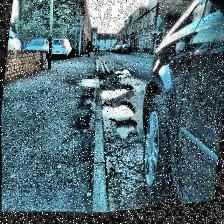pothole: (101, 100, 137, 127), (99, 83, 131, 107), (112, 118, 136, 148)
